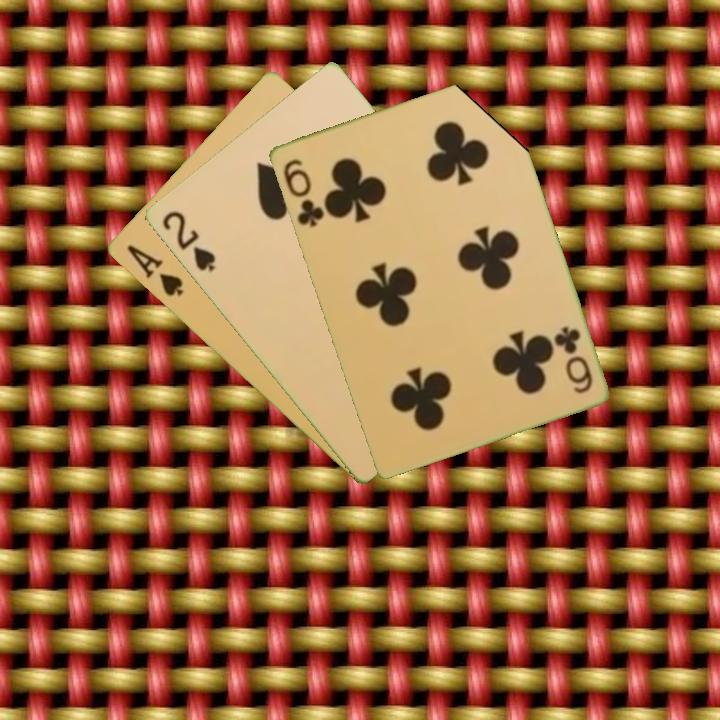2s: (158, 207, 218, 275)
6c: (279, 155, 327, 230), (550, 322, 595, 397)
As: (122, 241, 186, 300)
